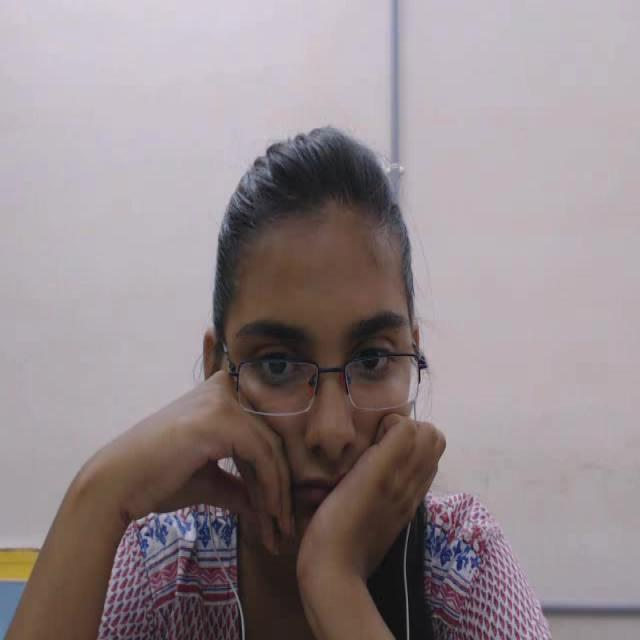Bored: (186, 110, 444, 591)
